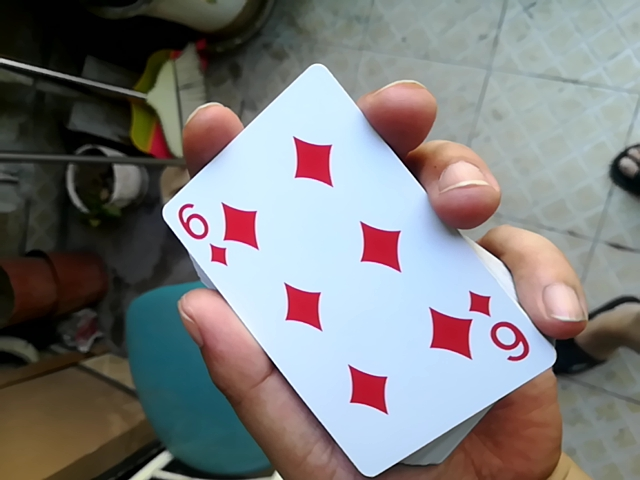fk 6: (157, 57, 536, 479)
